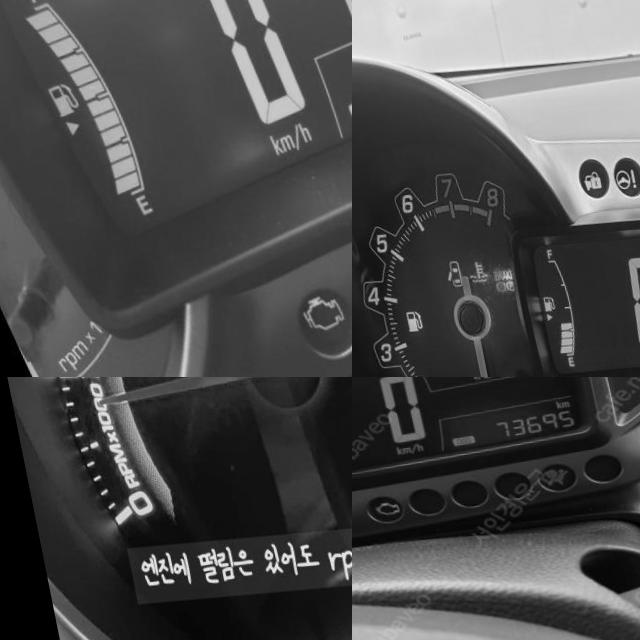Doors: (431, 263, 450, 291)
Engine cooling system: (454, 263, 476, 288)
Low fuel level: (390, 312, 409, 336)
